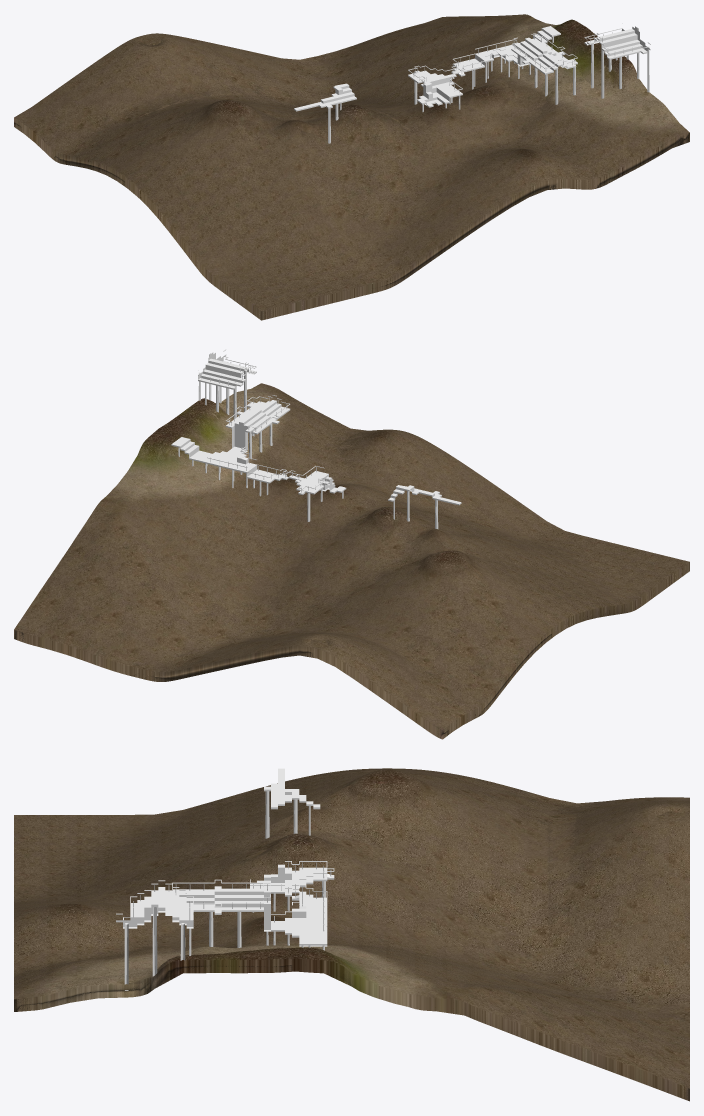
File: chunk_0_2.glb
The picture shows the model from 3 angles, top to bottom: view 1: azimuth 30°, elevation 25°; view 2: azimuth 150°, elevation 25°; view 3: azimuth 270°, elevation 25°; orthographic projection. The views are drawn at different scales.
Parts seen in each view (by area): view 1: Terrain_L0, Terrain_L2, Terrain_L1, Buildings_L0, Buildings_L1; view 2: Terrain_L0, Terrain_L2, Terrain_L1, Buildings_L0, Buildings_L1; view 3: Terrain_L0, Terrain_L2, Terrain_L1, Buildings_L0, Buildings_L1.
Boxes of the visible parts, left/top/right/bottom form: Terrain_L0: left=14, top=14, right=689, bottom=320; Terrain_L2: left=14, top=14, right=689, bottom=317; Terrain_L1: left=14, top=16, right=689, bottom=318; Buildings_L0: left=294, top=26, right=650, bottom=143; Buildings_L1: left=297, top=26, right=647, bottom=143; Terrain_L0: left=14, top=383, right=689, bottom=739; Terrain_L2: left=14, top=383, right=681, bottom=738; Terrain_L1: left=14, top=388, right=689, bottom=738; Buildings_L0: left=171, top=349, right=461, bottom=528; Buildings_L1: left=172, top=352, right=461, bottom=528; Terrain_L0: left=14, top=768, right=689, bottom=1101; Terrain_L2: left=14, top=768, right=689, bottom=1100; Terrain_L1: left=14, top=768, right=689, bottom=1099; Buildings_L0: left=116, top=768, right=334, bottom=990; Buildings_L1: left=123, top=790, right=333, bottom=984.
Bounding box in the file's own units: 96.29 × 32.55 × 96.
Materials: 2 (1 with a texture image).
